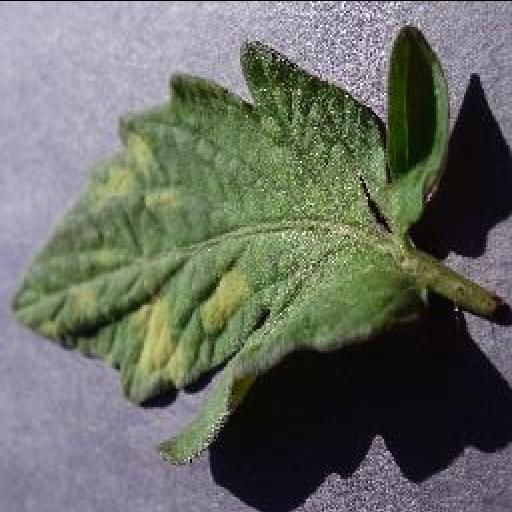disease_tomato: (8, 24, 454, 462)
